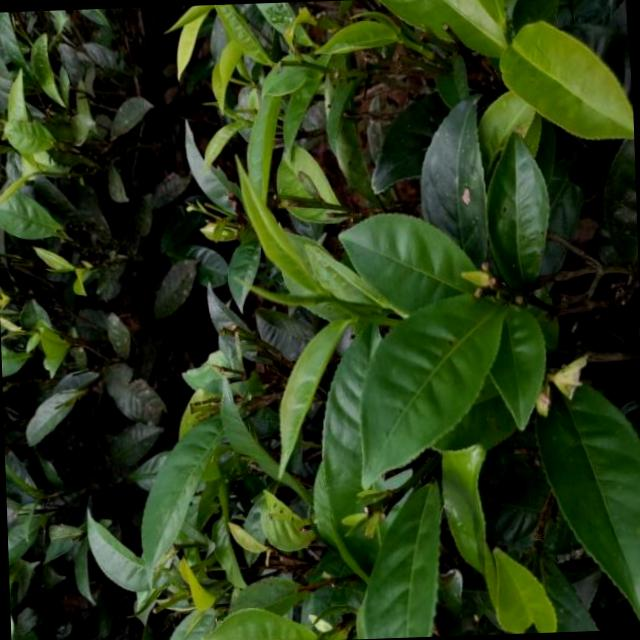Stem: (353, 312, 368, 321)
